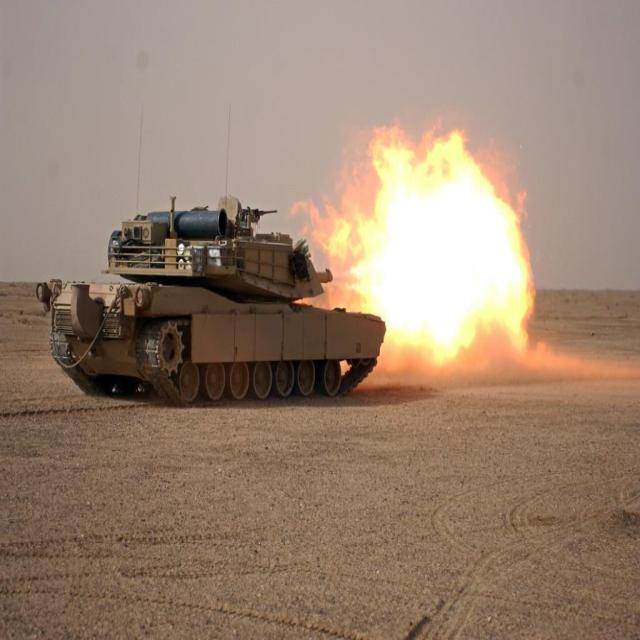Tanks: (27, 68, 467, 501)
